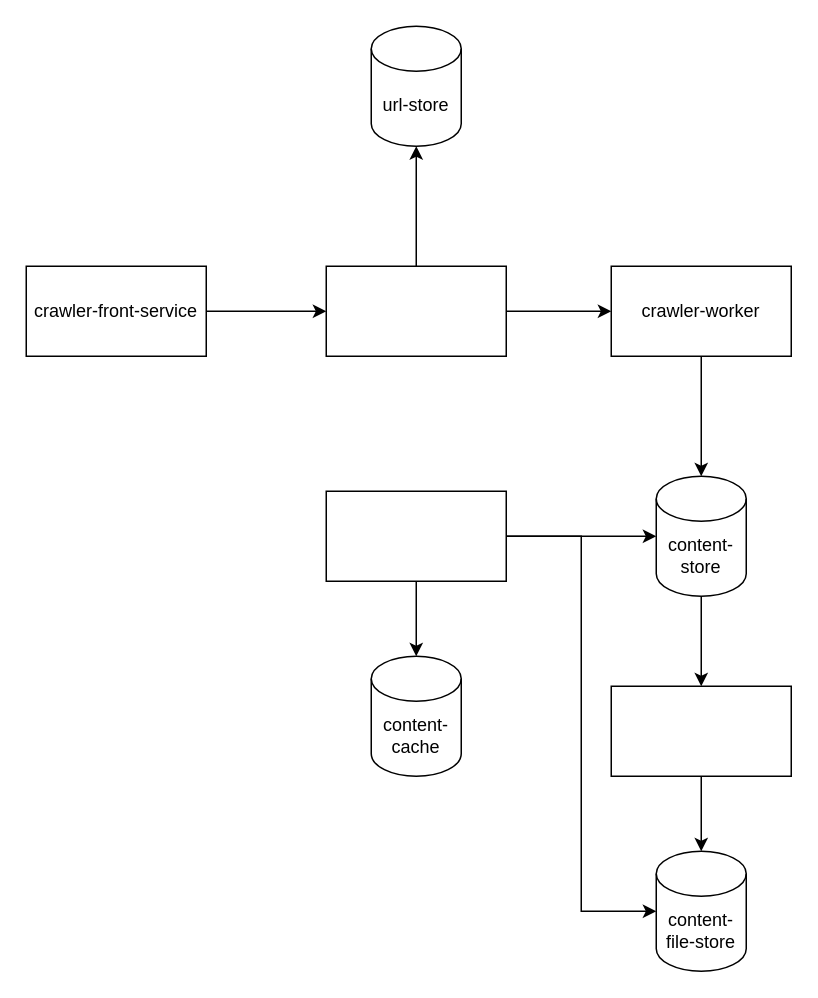
The diagram is 818 pixels wide and 998 high, and some of its shapes have lost their labels. Each missing label, with the centre of its shape:
"content-archiver" goes at point 700,730.
"document-service" goes at point 415,310.
"search-api" goes at point 415,535.
